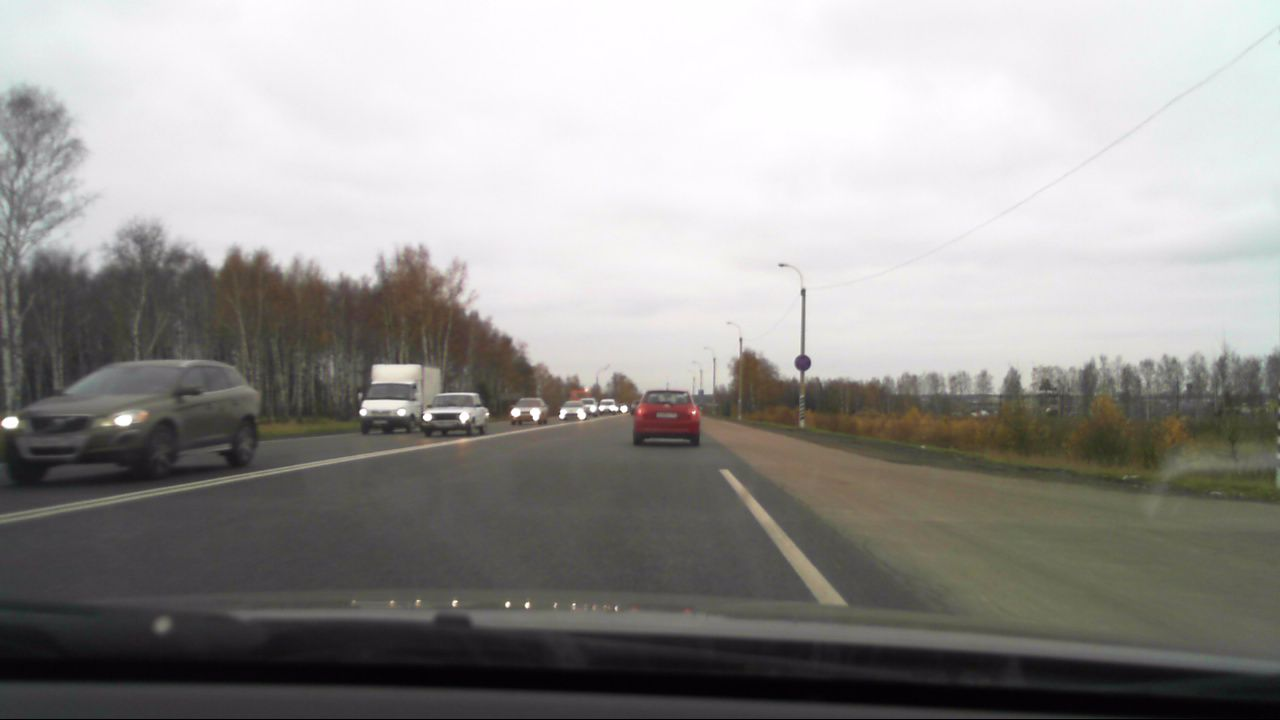No Parking: (793, 352, 812, 370)
